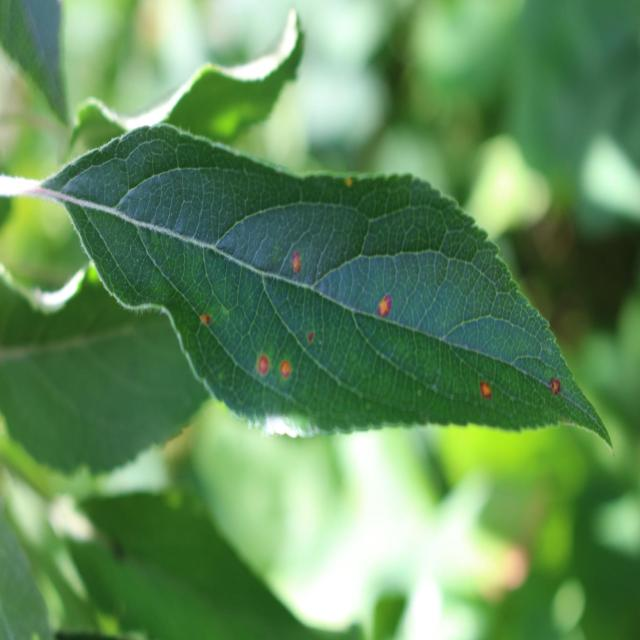healthy: (0, 259, 210, 479)
rust: (42, 123, 614, 453)
